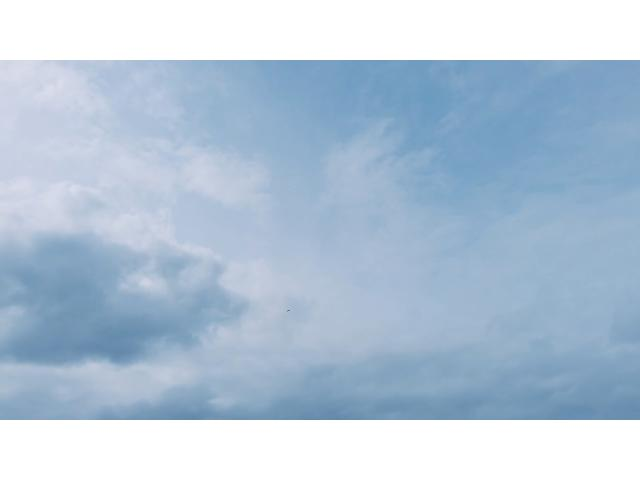Anti-Drone: (283, 308, 293, 316)
